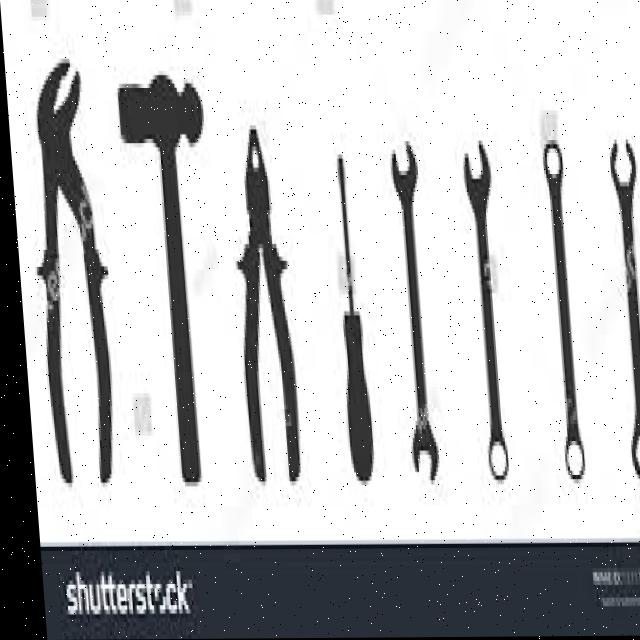Screwdriver: (337, 156, 366, 479)
